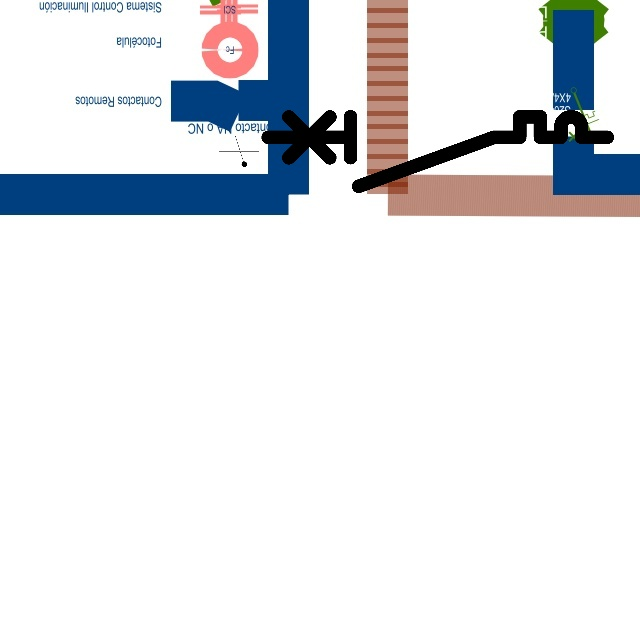interruptor_termomagnetico: (259, 108, 615, 195)
